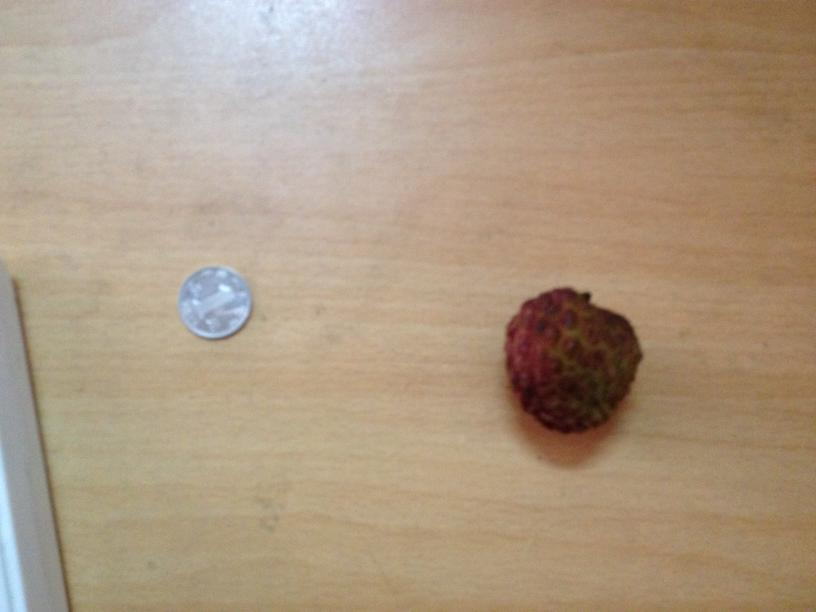coin: (178, 269, 249, 339)
litchi: (505, 290, 642, 435)
